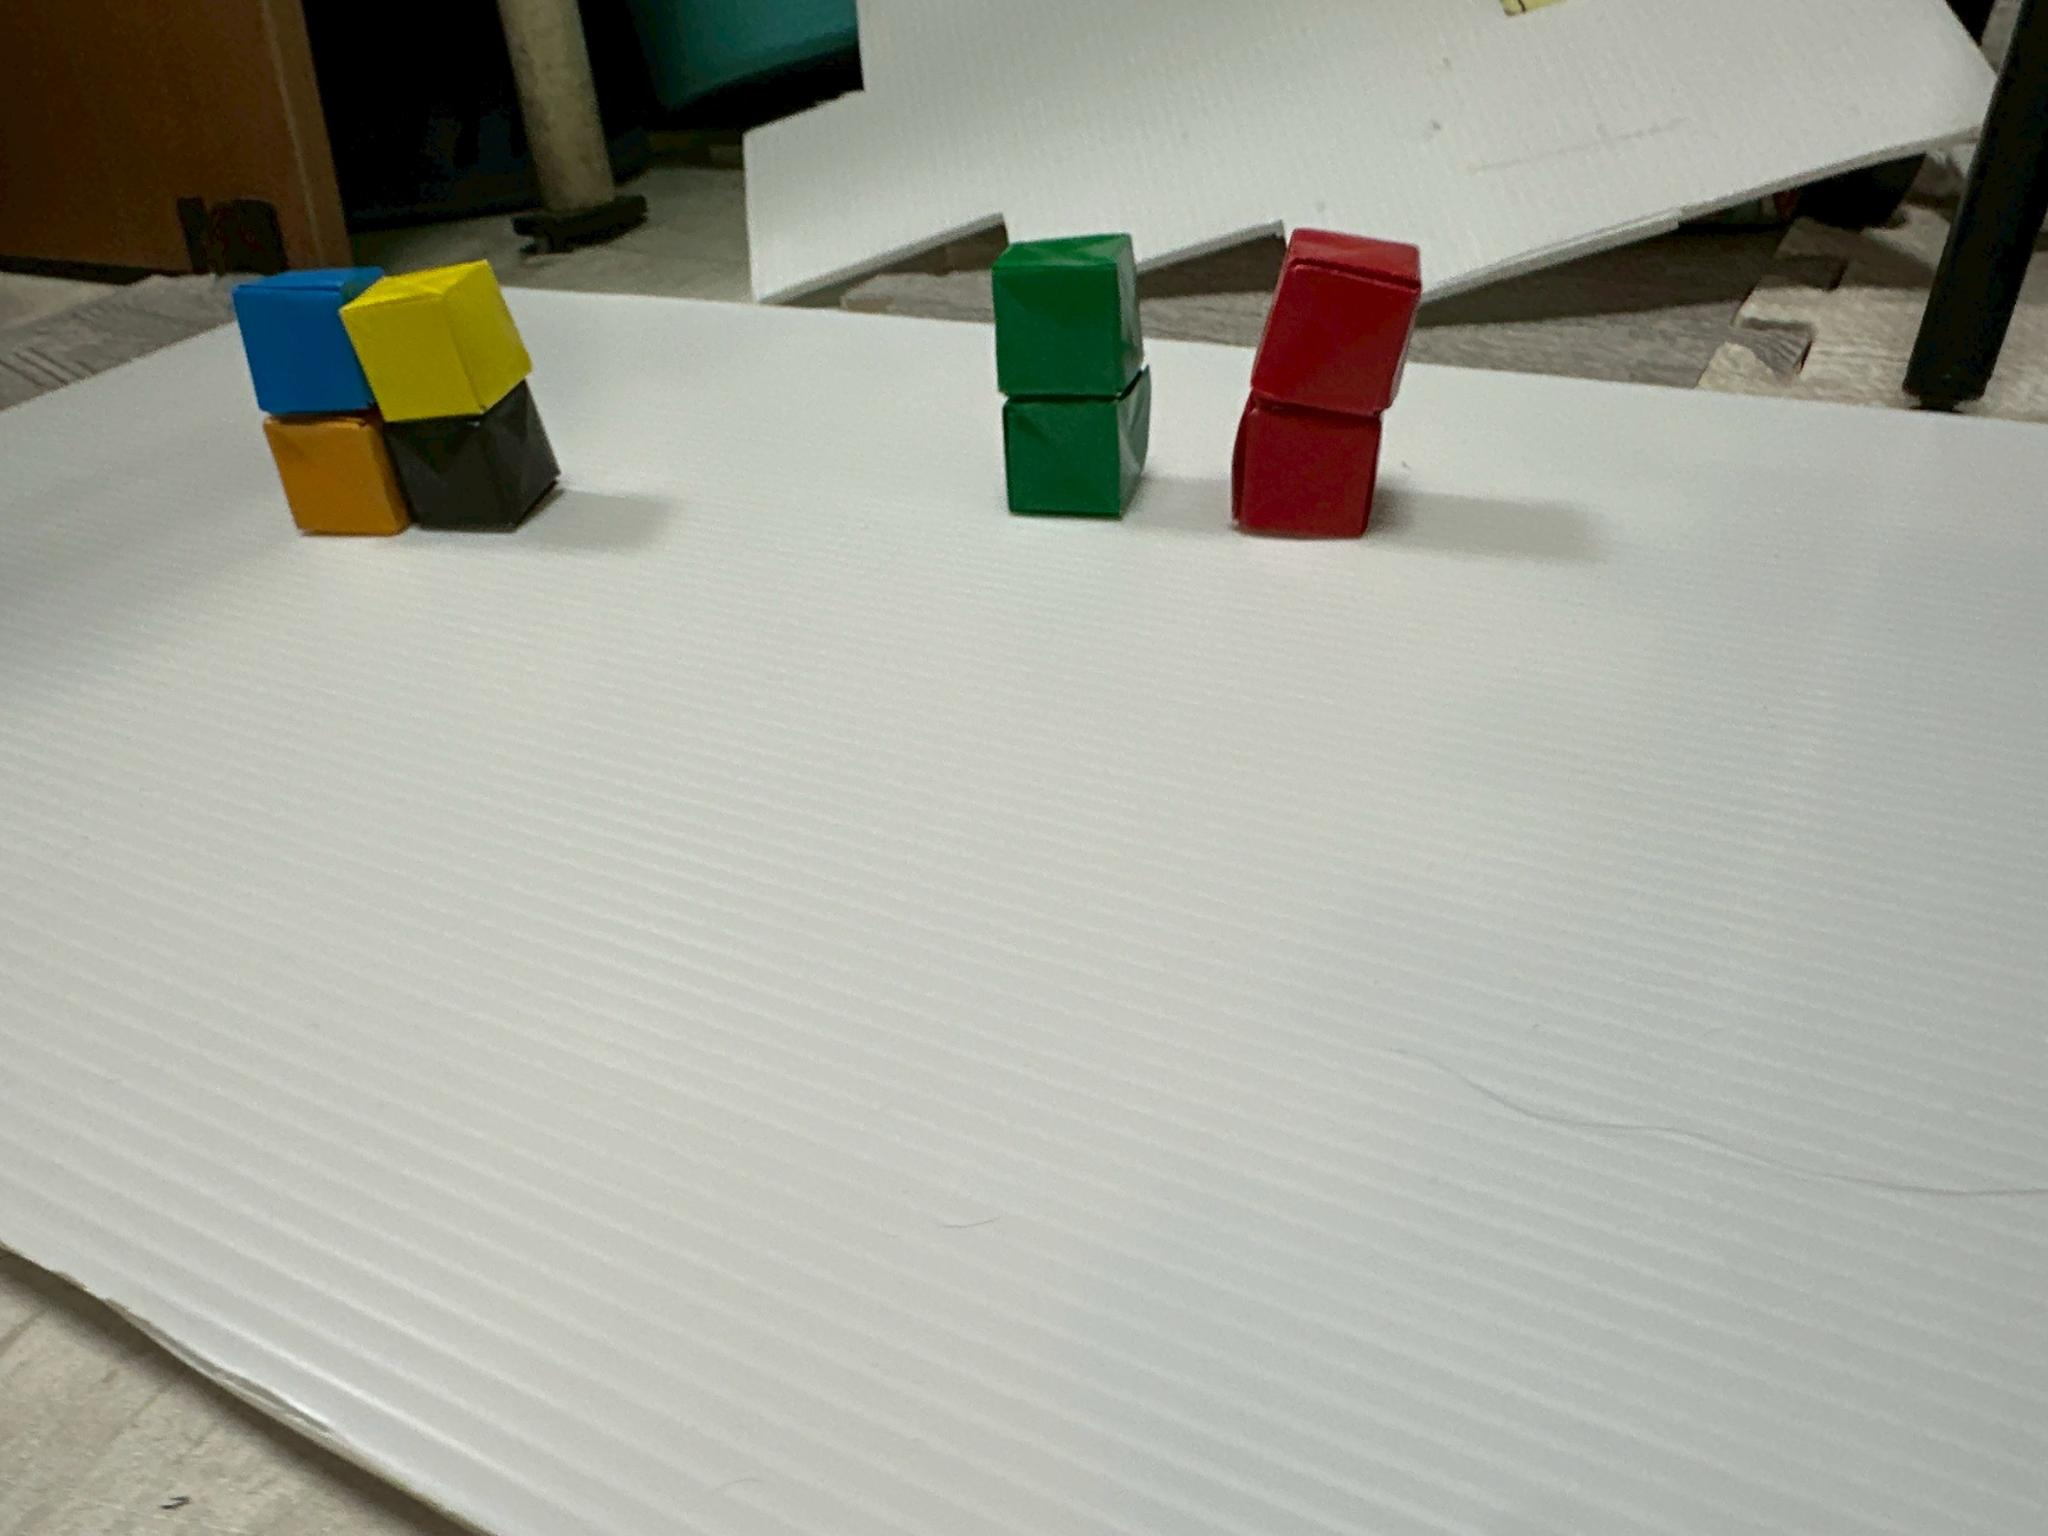cube: (1251, 231, 1421, 418), (340, 261, 527, 421), (382, 381, 560, 529), (992, 236, 1143, 397), (232, 268, 382, 416), (1003, 371, 1150, 518), (1232, 394, 1380, 537), (263, 416, 410, 536)
